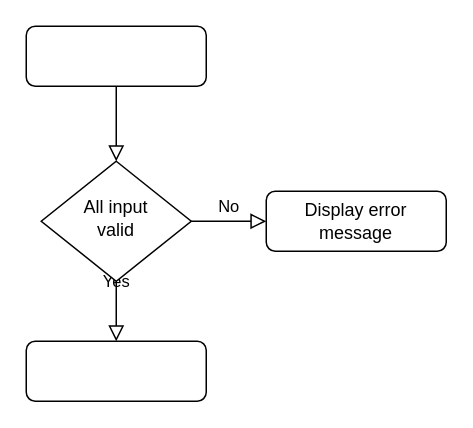
The diagram is 473 pixels wide and 428 high, and some of its shapes have lost their labels. Here are the shapes that lost their labels. From the top down, the box of each, then its label:
(25, 25, 206, 86): Login
(25, 340, 206, 401): User connected
